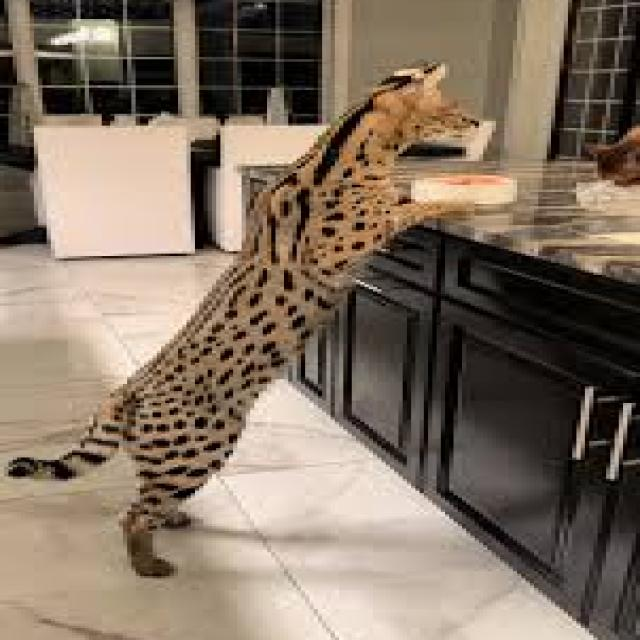Savannah: (0, 52, 504, 583)
